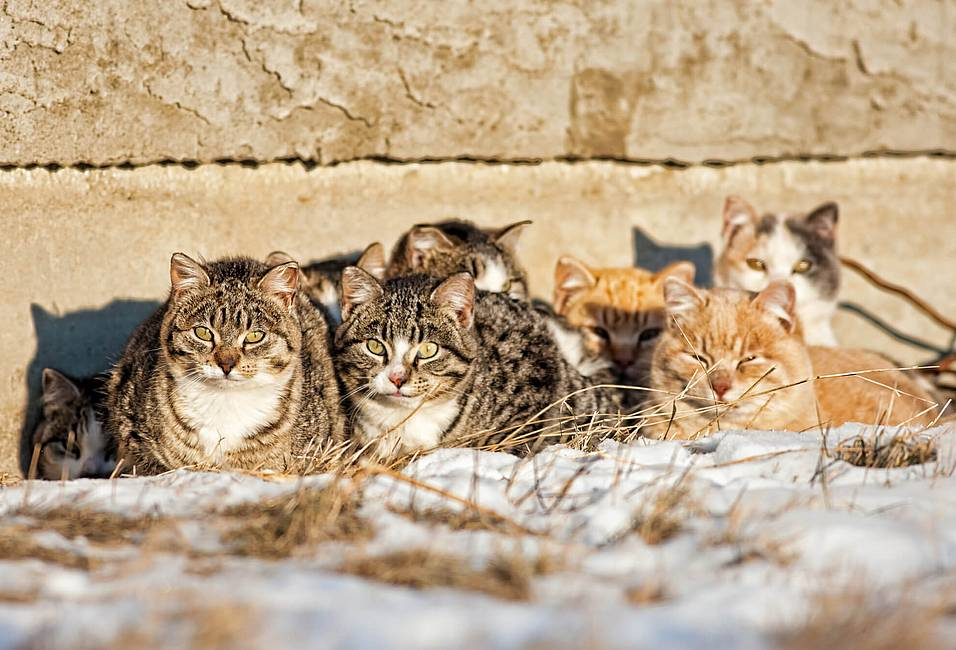Cat: (129, 239, 340, 480), (327, 271, 562, 464), (632, 283, 826, 458)
